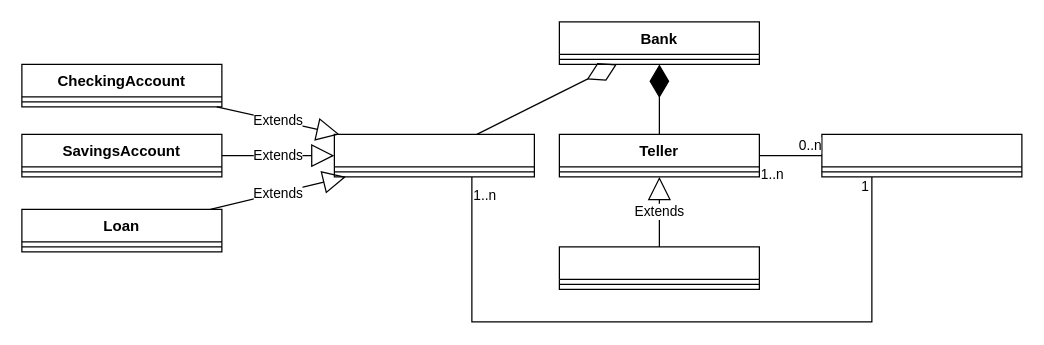
Some shapes in this 1044 by 345 pixel diagram are drawn without their labels. The shapes that lost their labels are listed below. From the top down, each one's centre as x and y in pixels, then its label:
(433,155): Account
(921,155): Customer
(658,267): ATM
